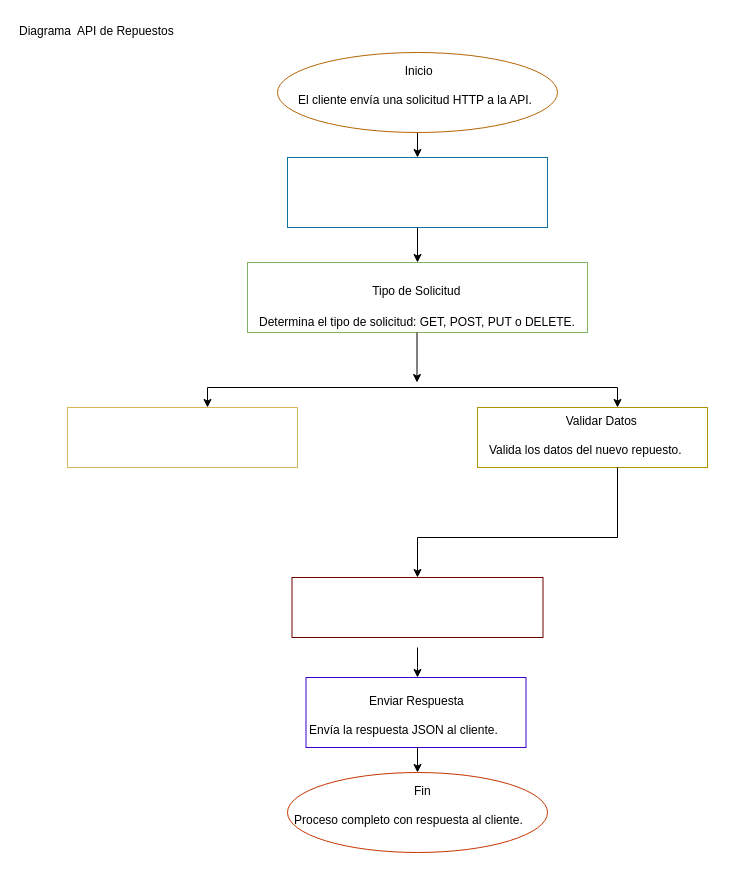
Image size: 734x870. Some labels were removed from this diagram. Each missing label, with the box of its shape:
Guardar Repuesto Guarda el nuevo repuesto en MongoDB.: (291, 576, 543, 638)
Listar Repuestos Lista los repuestos desde MongoDB.: (66, 406, 298, 468)
Solicitud HTTP Cliente realiza solicitud HTTP a la API.: (286, 156, 548, 228)
